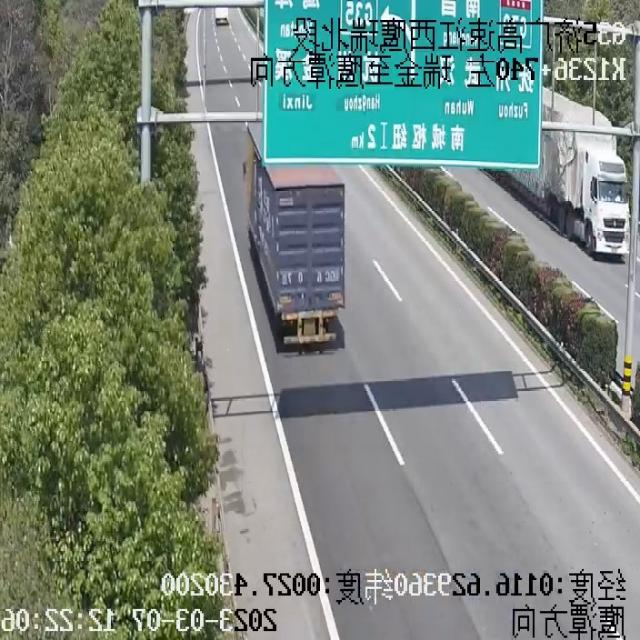cover: (209, 0, 280, 65)
